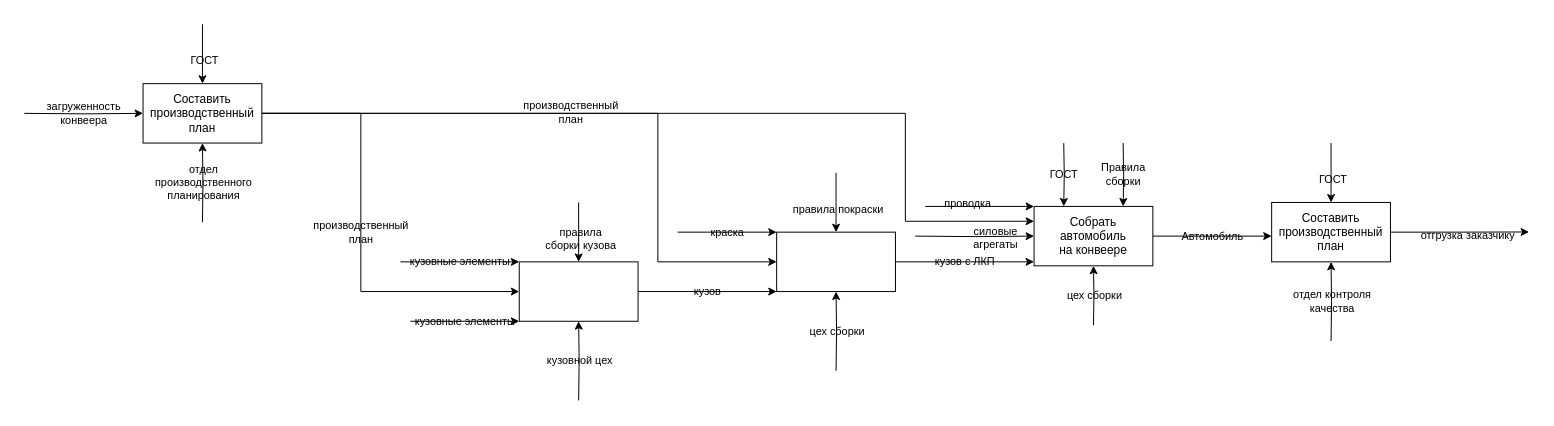
Some shapes in this 1554 by 426 pixel diagram are drawn without their labels. The shapes that lost their labels are listed below. From the top down, each one's centre as x and y in pixels, then its label:
point 835,261: Покрасить кузов
point 578,291: Собрать кузов
